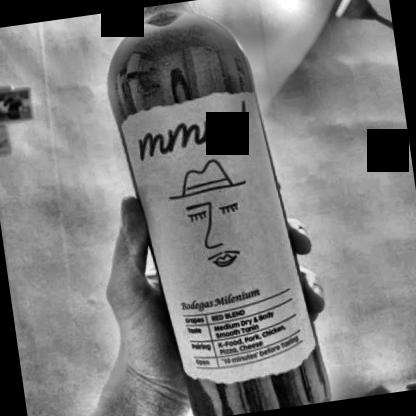umm: (120, 81, 324, 402)
